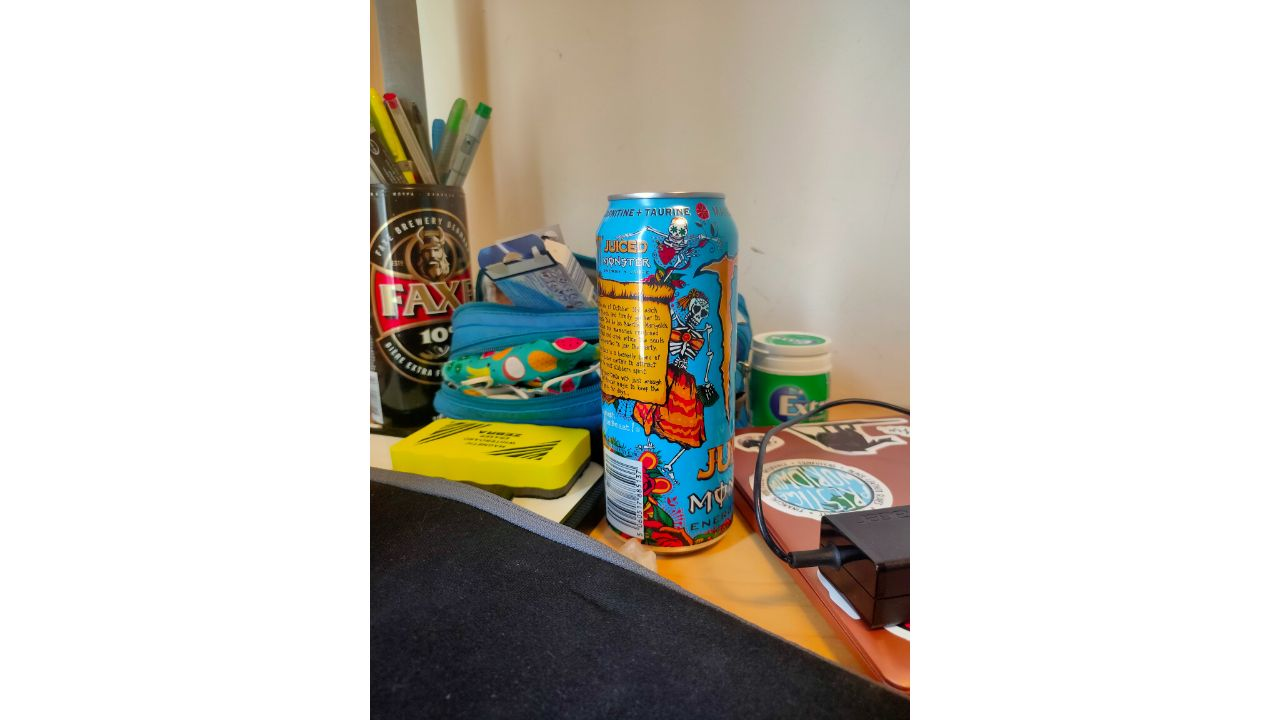Can: (594, 192, 742, 564)
